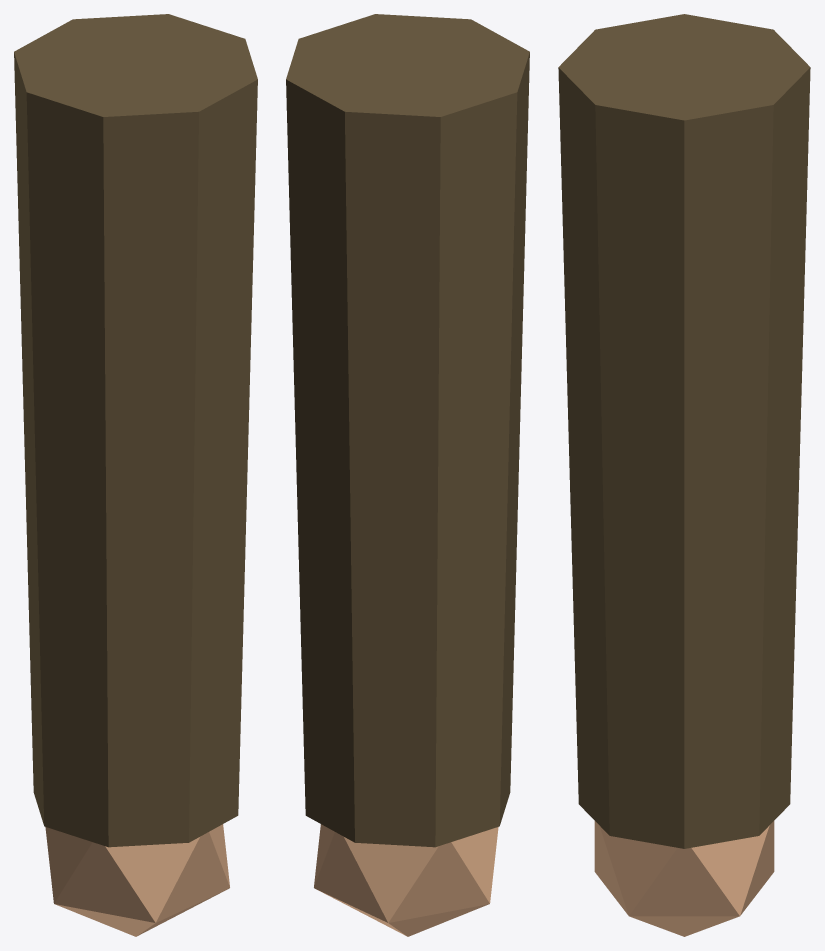
File: insan_e2k_kol.glb
The picture shows the model from 3 angles, left to right: view 1: azimuth 30°, elevation 25°; view 2: azimuth 150°, elevation 25°; view 3: azimuth 270°, elevation 25°; orthographic projection.
Parts seen in each view (by area): view 1: Cone; view 2: Cone; view 3: Cone.
Boxes of the visible parts, x1=… form: Cone: x1=14, y1=14, x2=257, y2=936; Cone: x1=286, y1=14, x2=529, y2=936; Cone: x1=558, y1=14, x2=810, y2=936.
Size of the model in its own units: 0.031 by 0.118 by 0.031.
